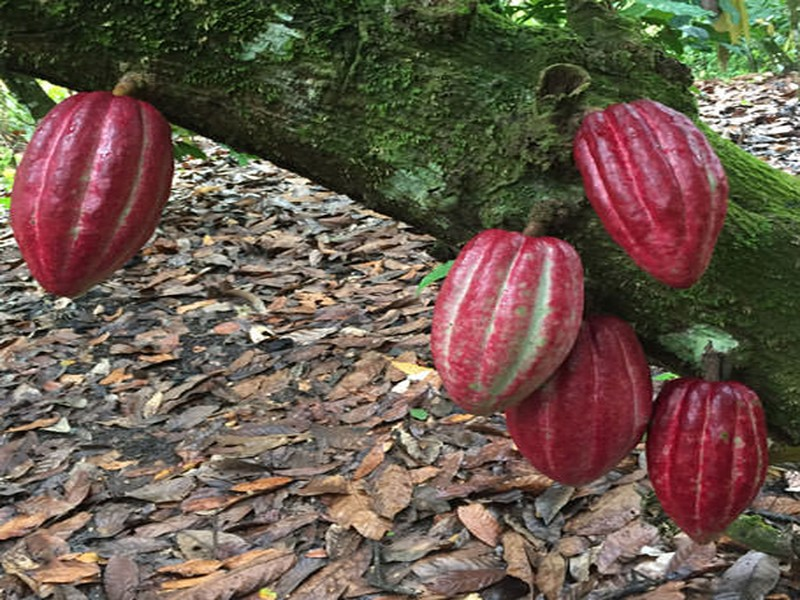Cacaopod: (9, 89, 177, 297), (570, 99, 730, 291), (646, 376, 768, 547)
